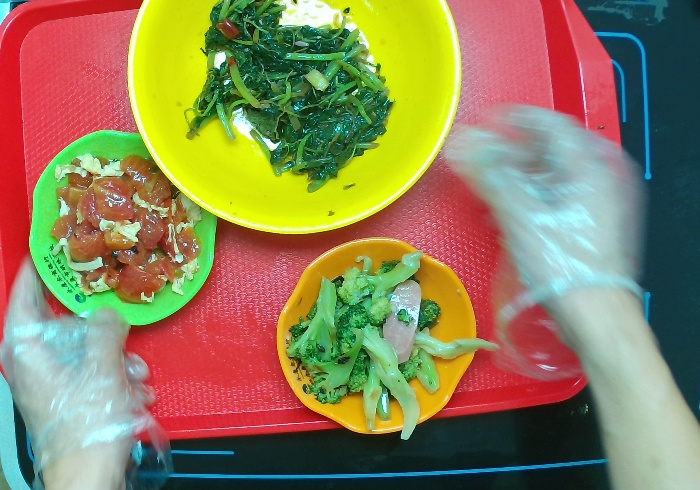YKMZ-Huang_Se_Tang_Wan: (128, 1, 464, 241)
YKMZ-Ju_Se_Ao_Bian_Wan: (271, 231, 476, 440)
YKMZ-Lv_Se_Ao_Bian_Wan: (25, 121, 223, 326)
